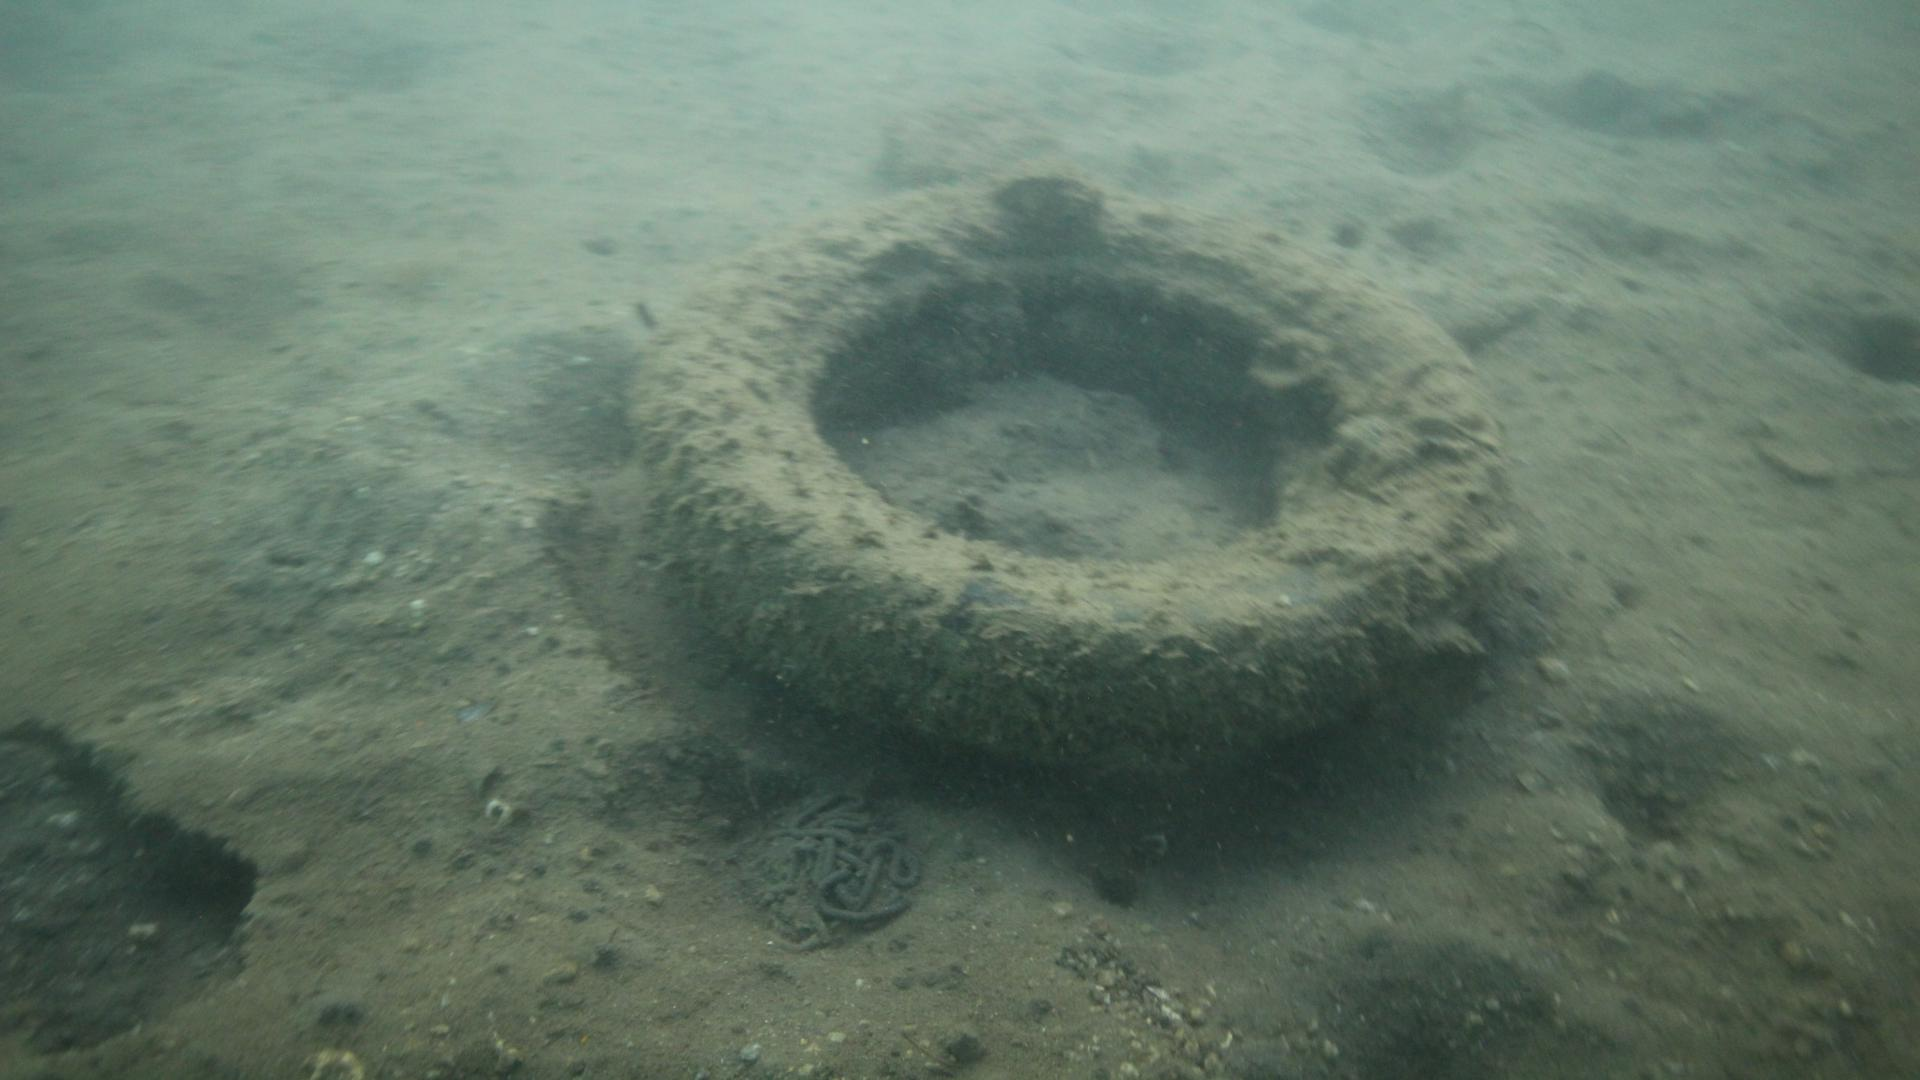tire: (632, 174, 1507, 774)
